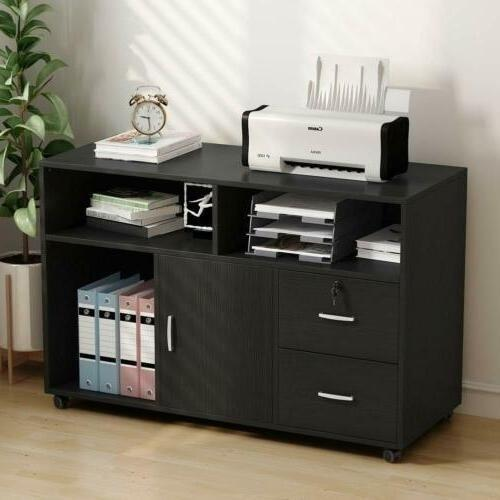cabinet_door: (156, 257, 272, 416), (279, 275, 399, 357), (279, 355, 398, 434)
handle: (314, 306, 360, 332), (315, 385, 358, 410), (164, 312, 178, 355)
